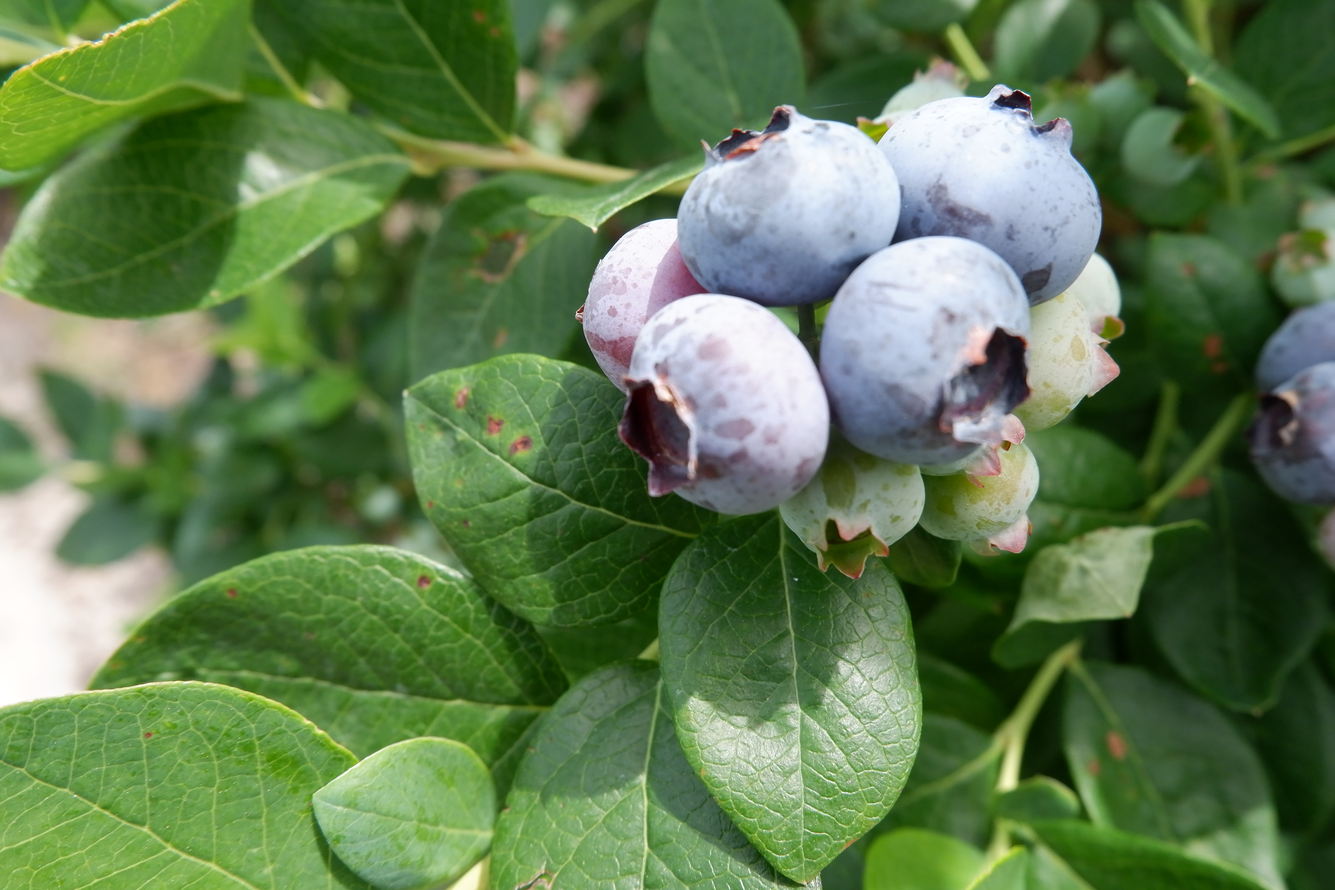Immature: (618, 294, 828, 511), (778, 425, 926, 581), (582, 223, 703, 387), (919, 440, 1038, 555), (1018, 292, 1116, 424), (921, 414, 1026, 485), (884, 55, 977, 111), (1067, 251, 1124, 341)
Mature: (878, 87, 1101, 306), (822, 240, 1030, 461), (680, 118, 898, 304)
